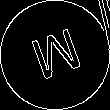M_S: (24, 24, 86, 86)
